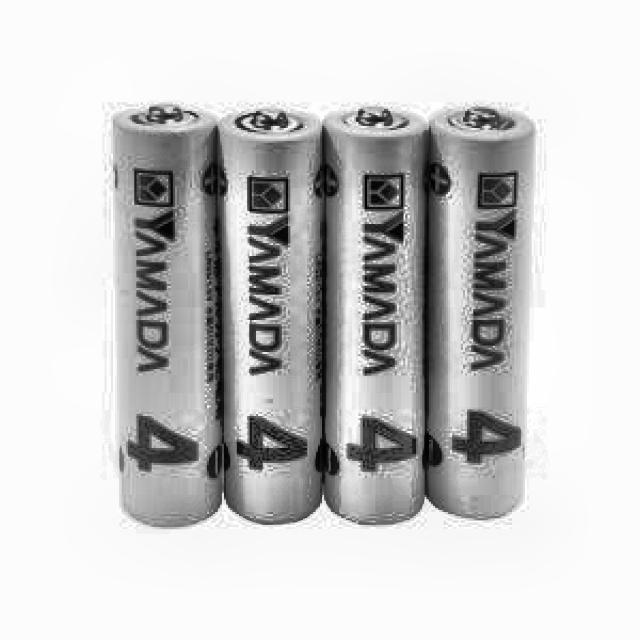drycell: (108, 104, 224, 533), (424, 101, 538, 528), (323, 100, 430, 532), (221, 104, 325, 530)
